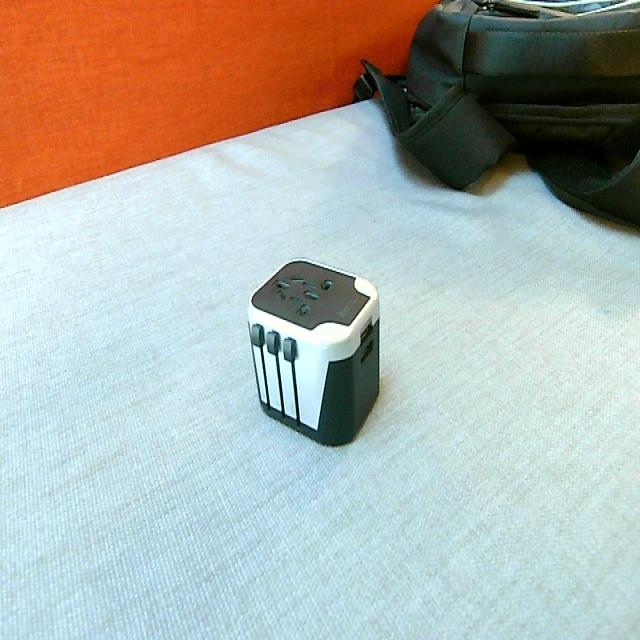adapter: (246, 256, 381, 447)
